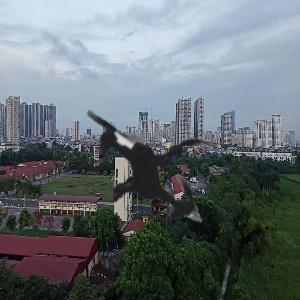drone: (27, 40, 271, 284)
